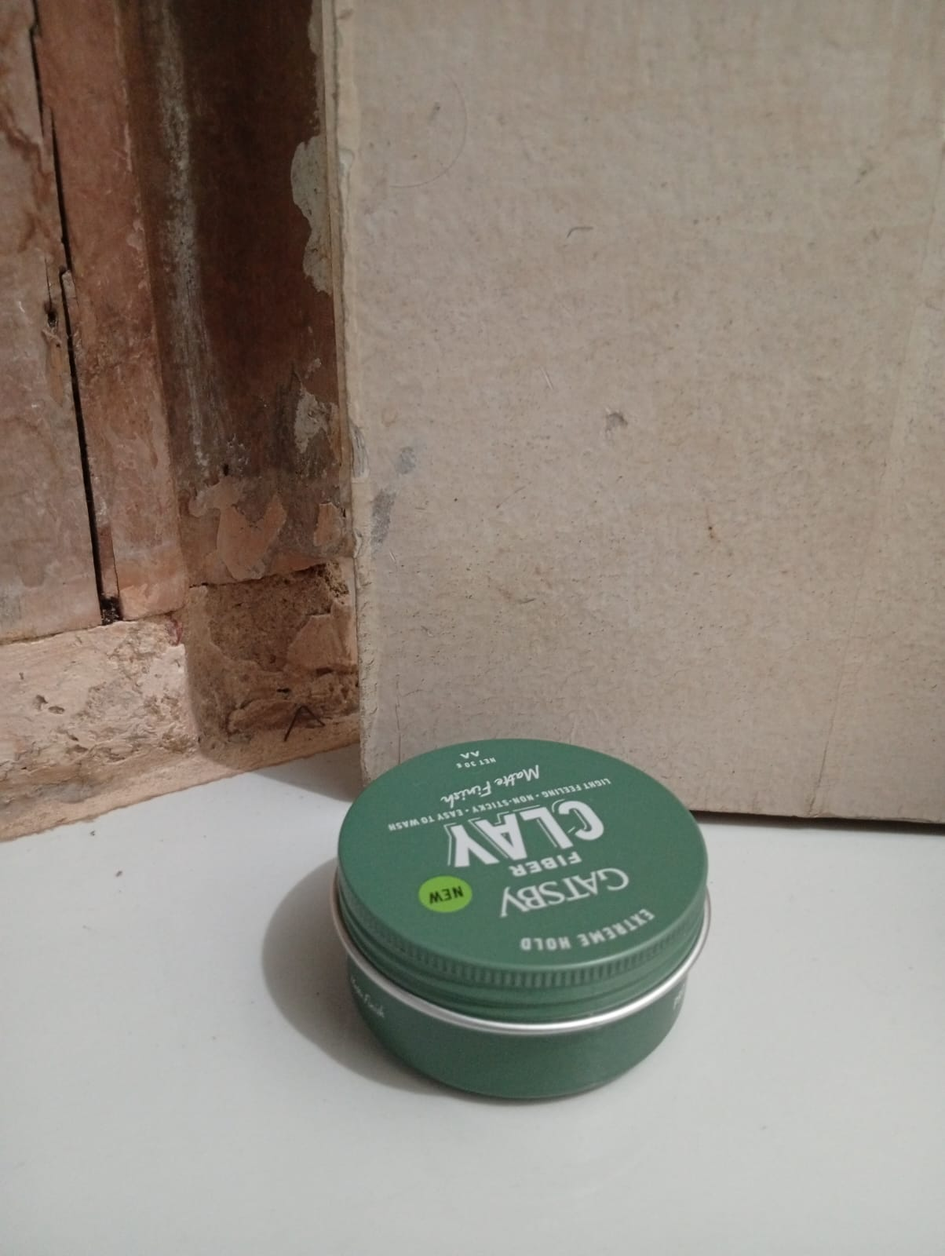Minyak_Rambut: (321, 717, 729, 1106)
